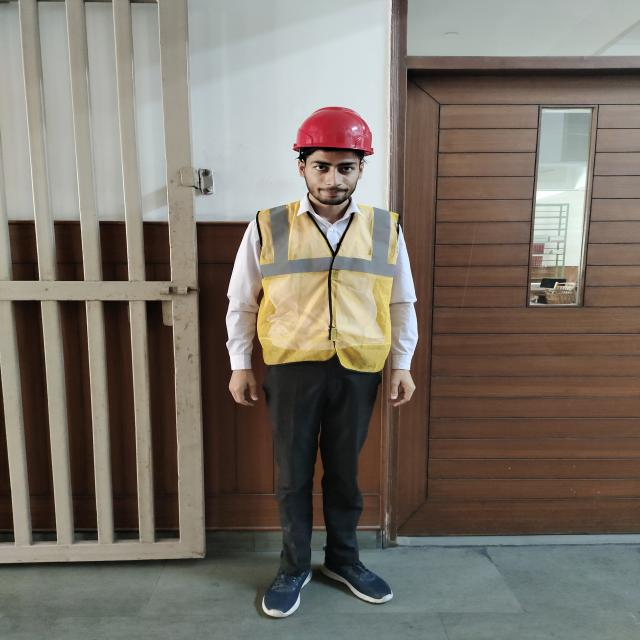safe: (227, 107, 411, 619)
